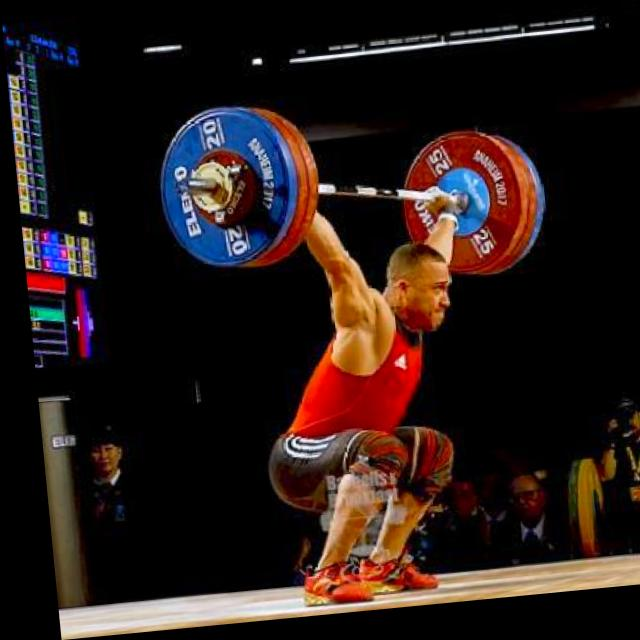barbell: (147, 106, 301, 279)
